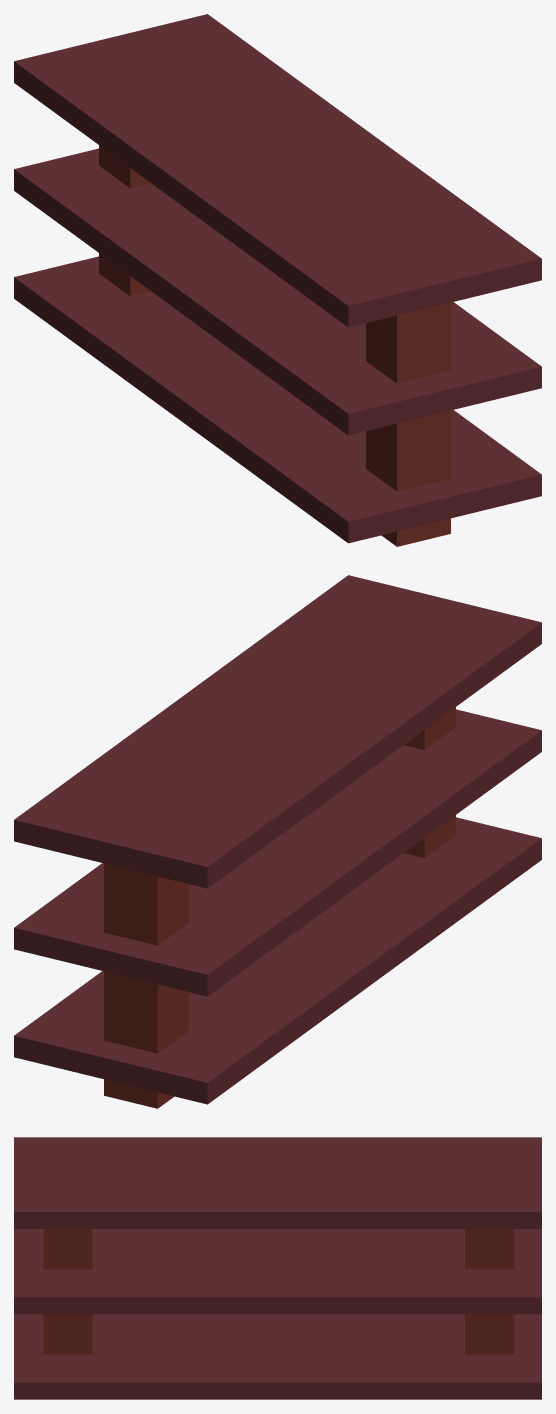
File: Shoerack.fbx
3 renders of one model, top to bottom at view 1: azimuth 30°, elevation 25°; view 2: azimuth 150°, elevation 25°; view 3: azimuth 270°, elevation 25°, orthographic. The views are drawn at different scales.
Parts seen in each view (by area): view 1: Shoerack; view 2: Shoerack; view 3: Shoerack.
Boxes of the visible parts, <box> form: Shoerack: <box>14,14,541,546</box>; Shoerack: <box>14,575,541,1108</box>; Shoerack: <box>14,1137,541,1399</box>.
Size of the model in its own units: 87.94 by 118 by 263.
